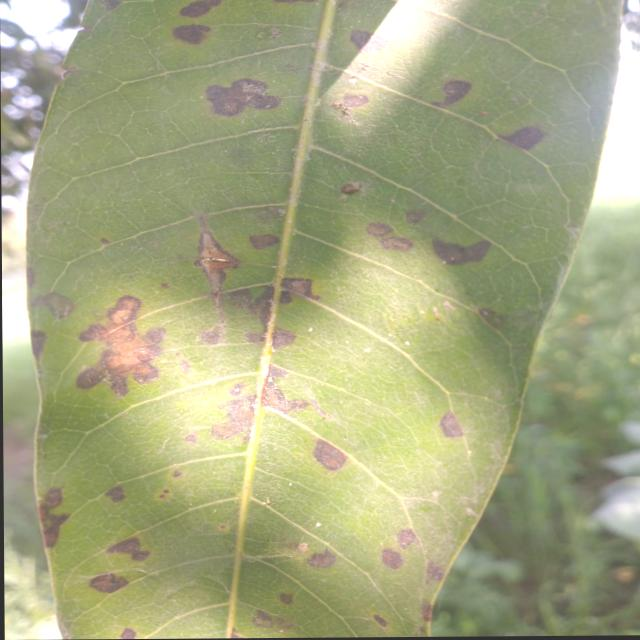Anthracnose: (69, 287, 174, 403), (174, 215, 249, 298), (204, 71, 283, 122), (209, 385, 265, 449), (256, 365, 318, 422), (98, 319, 159, 374), (36, 487, 74, 550), (308, 436, 353, 479), (499, 121, 549, 158), (33, 284, 78, 324), (106, 530, 153, 564), (432, 239, 492, 265), (346, 26, 390, 59), (280, 273, 323, 301), (474, 302, 511, 333), (435, 410, 467, 445), (178, 0, 224, 23), (73, 364, 108, 392), (173, 23, 212, 47), (89, 571, 129, 594), (226, 288, 254, 315), (380, 233, 415, 254), (394, 525, 421, 552), (444, 81, 472, 107), (26, 329, 48, 361), (270, 328, 298, 353), (252, 608, 278, 632), (104, 483, 129, 506), (174, 350, 195, 377), (249, 233, 280, 250), (307, 551, 336, 568), (365, 221, 394, 238), (228, 379, 249, 400), (382, 549, 403, 570), (426, 563, 446, 585), (273, 616, 295, 635), (339, 180, 364, 195), (343, 94, 369, 108), (200, 330, 222, 345), (145, 328, 166, 343), (406, 210, 427, 224), (372, 613, 390, 629), (244, 331, 266, 344), (422, 602, 433, 623), (103, 0, 121, 11), (26, 268, 35, 288), (279, 291, 292, 304), (280, 593, 294, 605), (121, 628, 137, 638), (99, 235, 112, 247), (270, 27, 282, 39), (184, 433, 197, 444), (272, 0, 318, 3), (297, 543, 309, 553), (173, 469, 183, 479), (231, 630, 245, 637), (161, 283, 170, 289)
